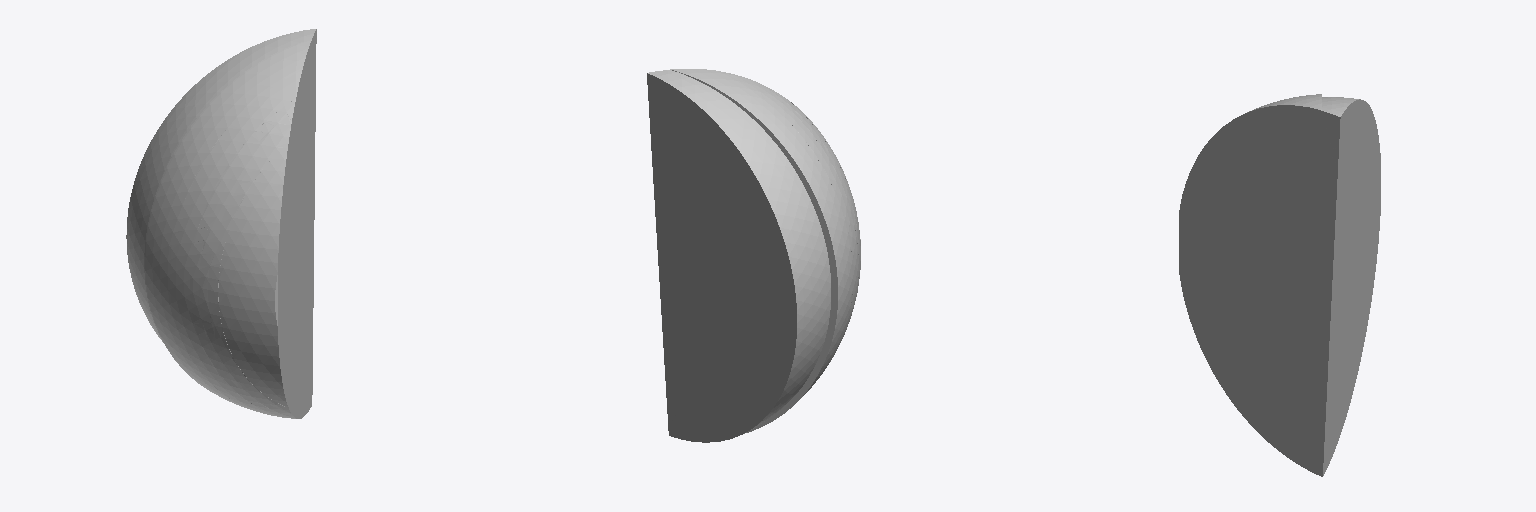
The model's file is sliced_ball1.obj.
3 renders of one model, left to right at view 1: azimuth 30°, elevation 25°; view 2: azimuth 150°, elevation 25°; view 3: azimuth 270°, elevation 25°, orthographic.
Visible parts, largest first — view 1: Object.10, Object.5, Object.3, Object.8, Object.4, Object.1, Object.7, Object.2, Object.9, Object.6, Object.11; view 2: Object.1, Object.2, Object.3, Object.5, Object.4, Object.10; view 3: Object.3, Object.1, Object.10, Object.5, Object.2, Object.4, Object.8, Object.7, Object.6, Object.9.
Part boxes in pixels (bbox=[...]): Object.10: bbox=[190, 99, 295, 418]; Object.5: bbox=[170, 71, 301, 418]; Object.3: bbox=[144, 39, 311, 413]; Object.8: bbox=[234, 170, 284, 396]; Object.4: bbox=[159, 57, 305, 417]; Object.1: bbox=[126, 29, 310, 341]; Object.7: bbox=[223, 150, 287, 404]; Object.2: bbox=[141, 29, 316, 394]; Object.9: bbox=[258, 218, 280, 369]; Object.6: bbox=[218, 142, 288, 407]; Object.11: bbox=[268, 247, 278, 348]; Object.1: bbox=[650, 75, 820, 441]; Object.2: bbox=[647, 70, 830, 442]; Object.3: bbox=[670, 69, 847, 433]; Object.5: bbox=[723, 72, 858, 361]; Object.4: bbox=[703, 69, 852, 373]; Object.10: bbox=[755, 81, 860, 300]; Object.3: bbox=[1296, 94, 1321, 476]; Object.1: bbox=[1342, 97, 1380, 428]; Object.10: bbox=[1225, 109, 1254, 428]; Object.5: bbox=[1255, 100, 1280, 451]; Object.2: bbox=[1322, 97, 1341, 476]; Object.4: bbox=[1281, 97, 1295, 462]; Object.8: bbox=[1191, 140, 1209, 365]; Object.7: bbox=[1210, 130, 1219, 383]; Object.6: bbox=[1220, 126, 1224, 390]; Object.9: bbox=[1183, 171, 1190, 321].
Size of the model in its own units: 0.5188 by 0.9987 by 0.5012.